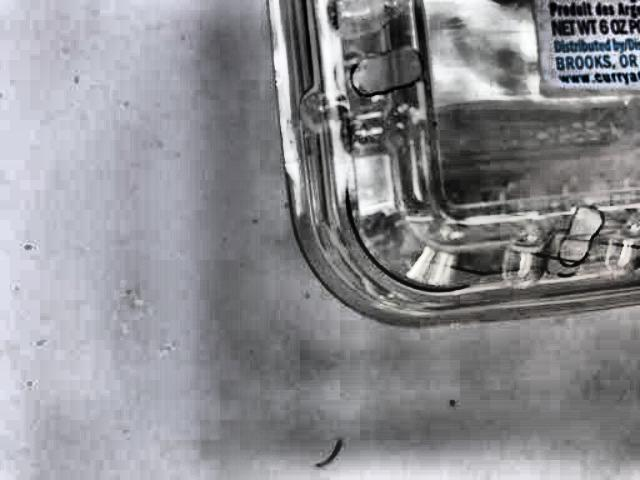Plastic: (262, 0, 640, 338)
